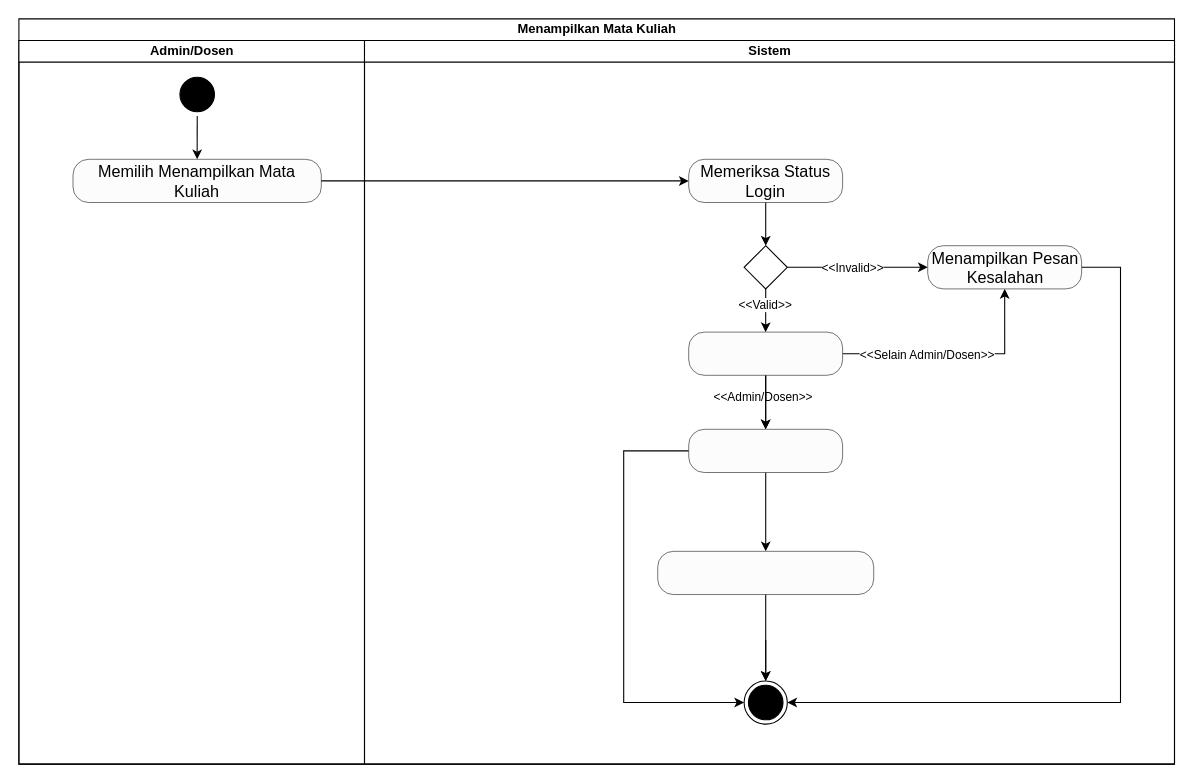
Some shapes in this 1193 by 783 pixel diagram are drawn without their labels. Here are the shapes that lost their labels. From the top down, the centre of each, then its label:
[765,353]: Memeriksa Aktor
[765,450]: Menampilkan Seluruh Mata Kuliah
[765,572]: Menampilkan Detil Absensi Berdasarkan Mata Kuliah
